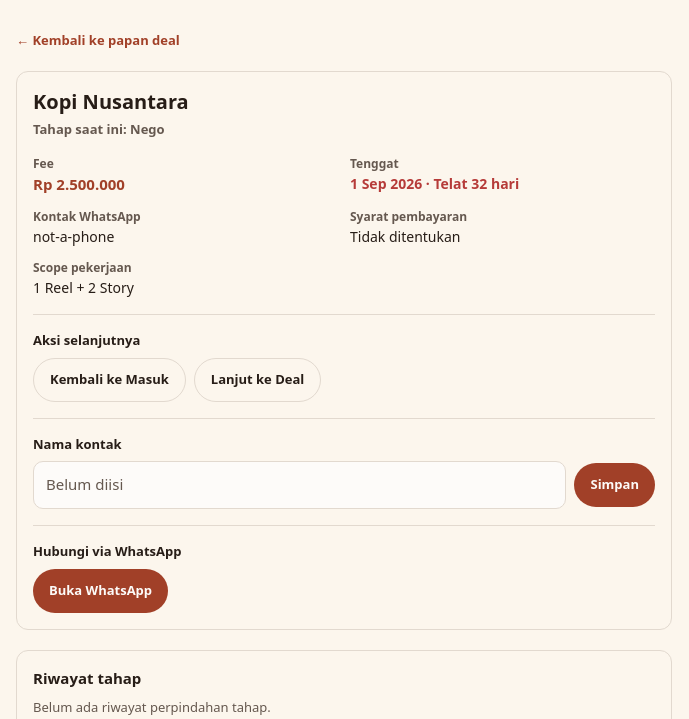
DealDetailClient WhatsApp action (T-18) › keeps the normal WhatsApp CTA enabled and reveals a focused repair form only after activation
Expected: the field labelled "Perbaiki nomor WhatsApp" is not shown
Click the button "Buka WhatsApp" at (101,591), box [33, 569, 168, 613]
(page scrolled)
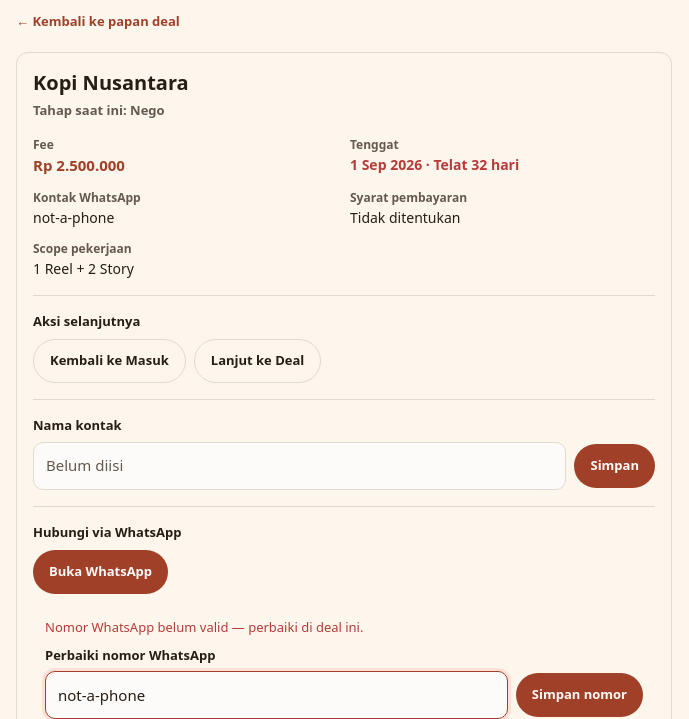
Expected: the message reads "Nomor WhatsApp belum valid — perbaiki di deal ini.", [45, 618, 364, 636]
